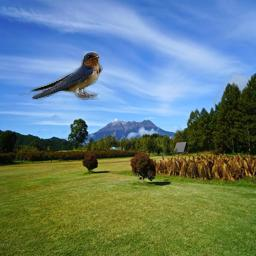Swallow: (18, 51, 103, 100)
